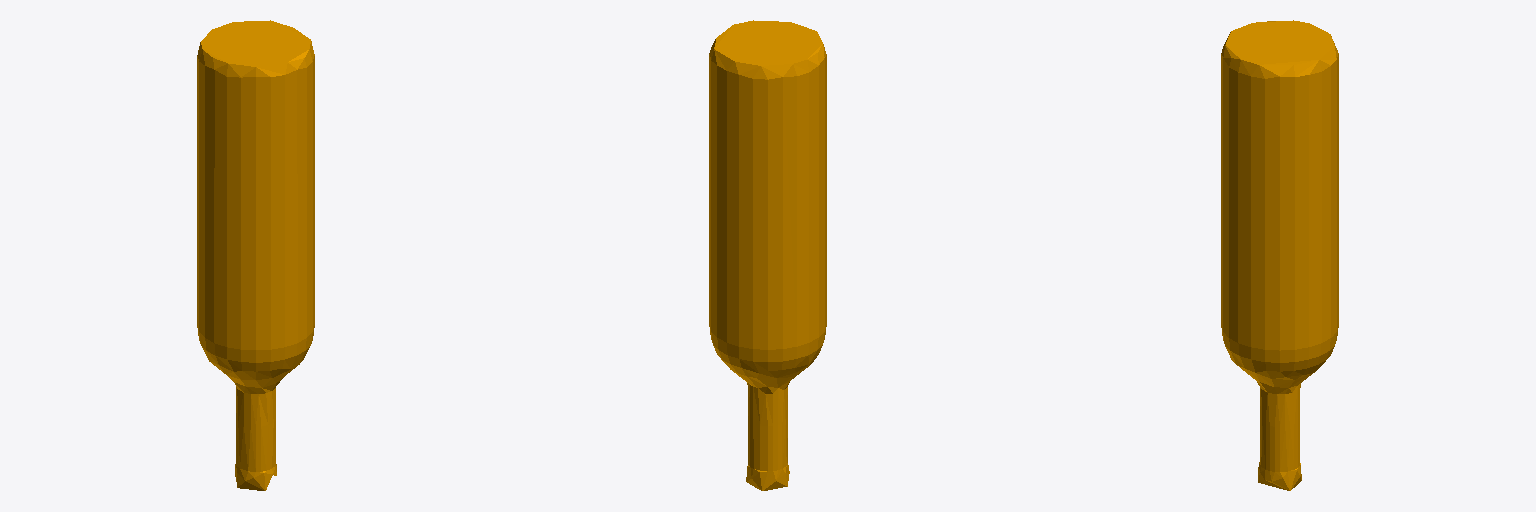
URDF robot description (114509277e76e413c8724d5673a063a6):
<?xml version="1.0"?>
<robot name="114509277e76e413c8724d5673a063a6">
  <link name="base_link">
    <contact>
      <lateral_friction value="1.0"/>
      <rolling_friction value="0.0"/>
      <contact_cfm value="0.0"/>
      <contact_erp value="1.0"/>
    </contact>
    <inertial>
      <mass value="0.153150921823"/>
      <inertia ixx="1" ixy="0" ixz="0" iyy="1" iyz="0" izz="1"/>
    </inertial>
    <visual>
      <geometry>
        <mesh filename="114509277e76e413c8724d5673a063a6_visual.obj"/>
      </geometry>
    </visual>
    <collision>
      <geometry>
        <mesh filename="114509277e76e413c8724d5673a063a6_collision.obj"/>
      </geometry>
    </collision>
  </link>
</robot>

--- What the picture shows (computed from the rendered views, not written in the file) ---
3 views of the same robot in one strip: view 1: azimuth 30°, elevation 25°; view 2: azimuth 150°, elevation 25°; view 3: azimuth 270°, elevation 25° (orthographic).
Robot: 114509277e76e413c8724d5673a063a6 — 1 links, 0 joints (none); root link base_link; default pose: every joint at zero.
Visible links, largest first — view 1: base_link; view 2: base_link; view 3: base_link.
Link boxes in pixels (bbox=[...]): base_link: bbox=[197, 20, 314, 490]; base_link: bbox=[709, 20, 826, 490]; base_link: bbox=[1221, 20, 1338, 490].
Size in the robot's own frame: 0.045 by 0.045 by 0.1859 metres.
1 mesh visuals loaded from 1 distinct referenced files (1 OBJ).
